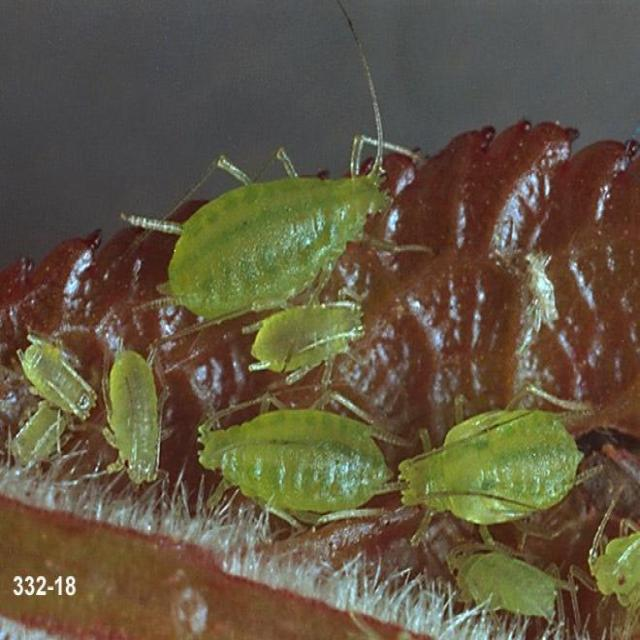Aphids: (140, 124, 397, 326), (385, 390, 615, 536), (193, 389, 398, 538), (235, 298, 394, 409), (95, 340, 182, 506), (13, 318, 103, 429)
